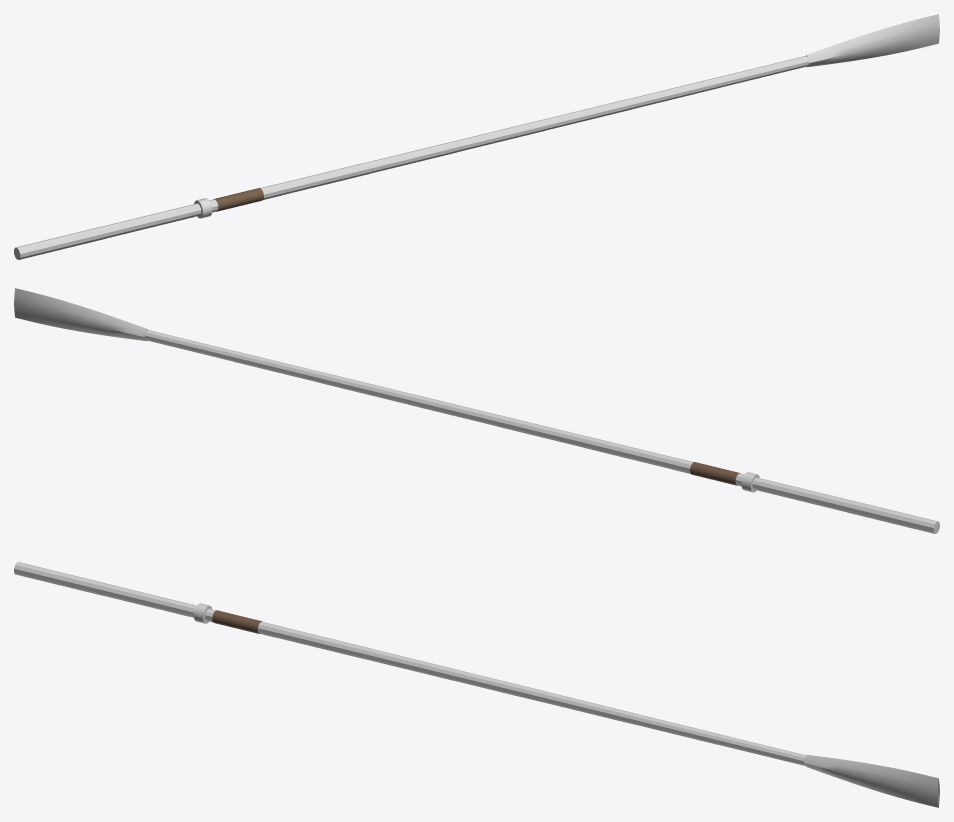
File: Oar_P1.glb
3 views of the same model, one above another, from view 1: azimuth 30°, elevation 25°; view 2: azimuth 150°, elevation 25°; view 3: azimuth 330°, elevation 25° (orthographic).
Parts seen in each view (by area): view 1: Oar_P1; view 2: Oar_P1; view 3: Oar_P1.
Part boxes in pixels (<box>): Oar_P1: <box>14,14,939,259</box>; Oar_P1: <box>14,288,939,533</box>; Oar_P1: <box>14,562,939,807</box>.
Bounding box in the file's own units: 4.88 × 0.15 × 0.086.
